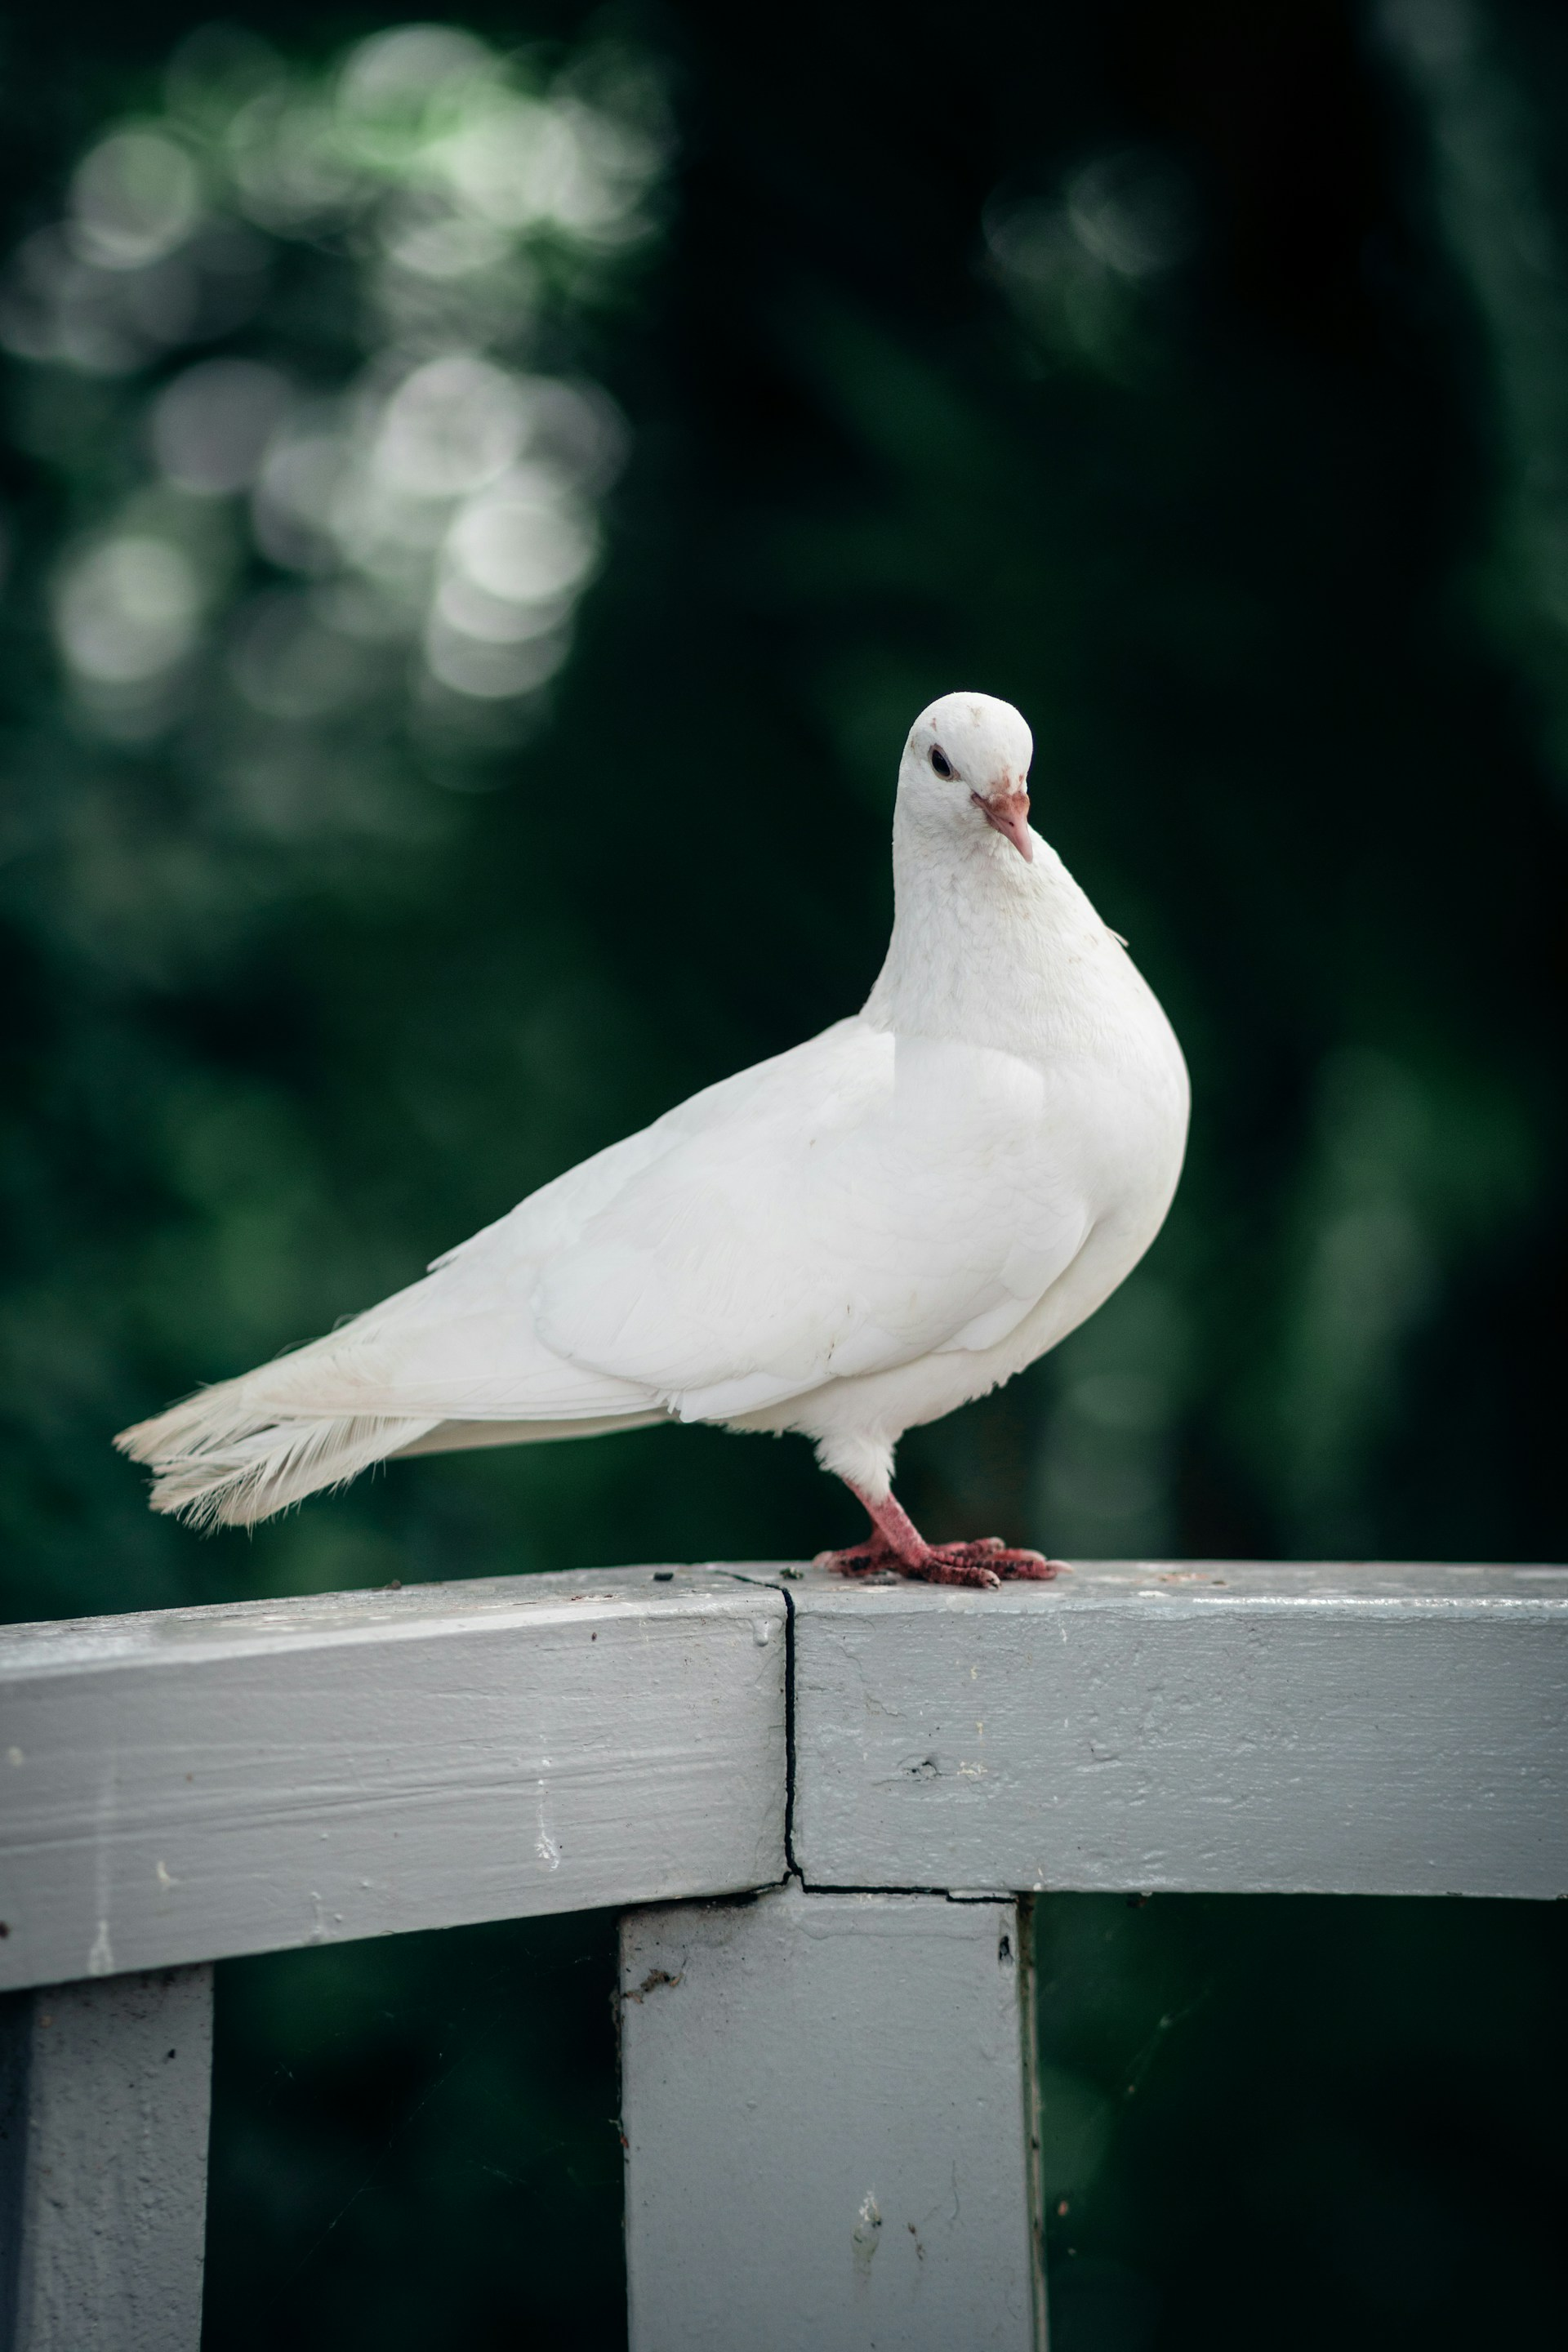pigeon: (98, 686, 1267, 1619)
